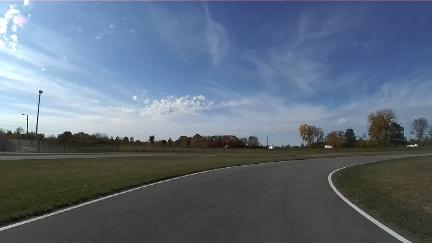Grass: (0, 153, 376, 224), (0, 156, 278, 224), (334, 156, 432, 243)
Lane: (0, 154, 430, 242), (0, 154, 213, 159)
